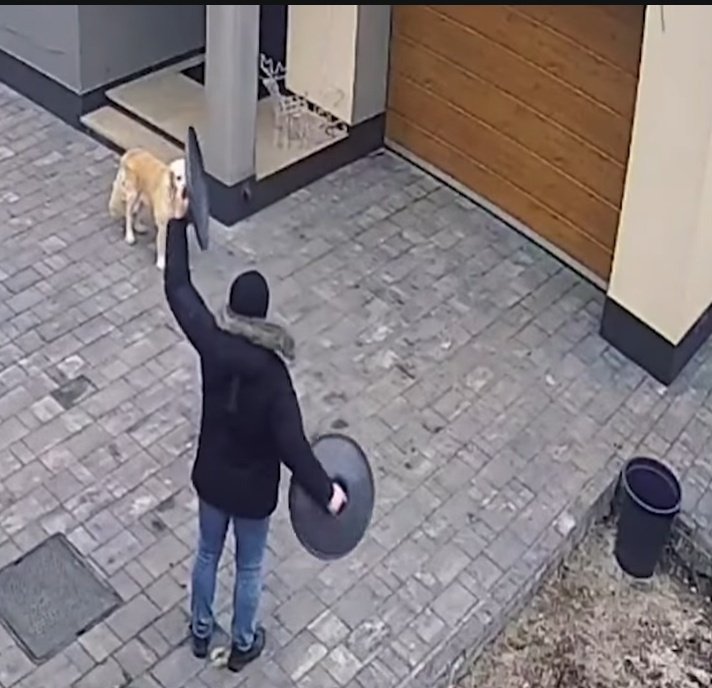person: (197, 285, 272, 664)
